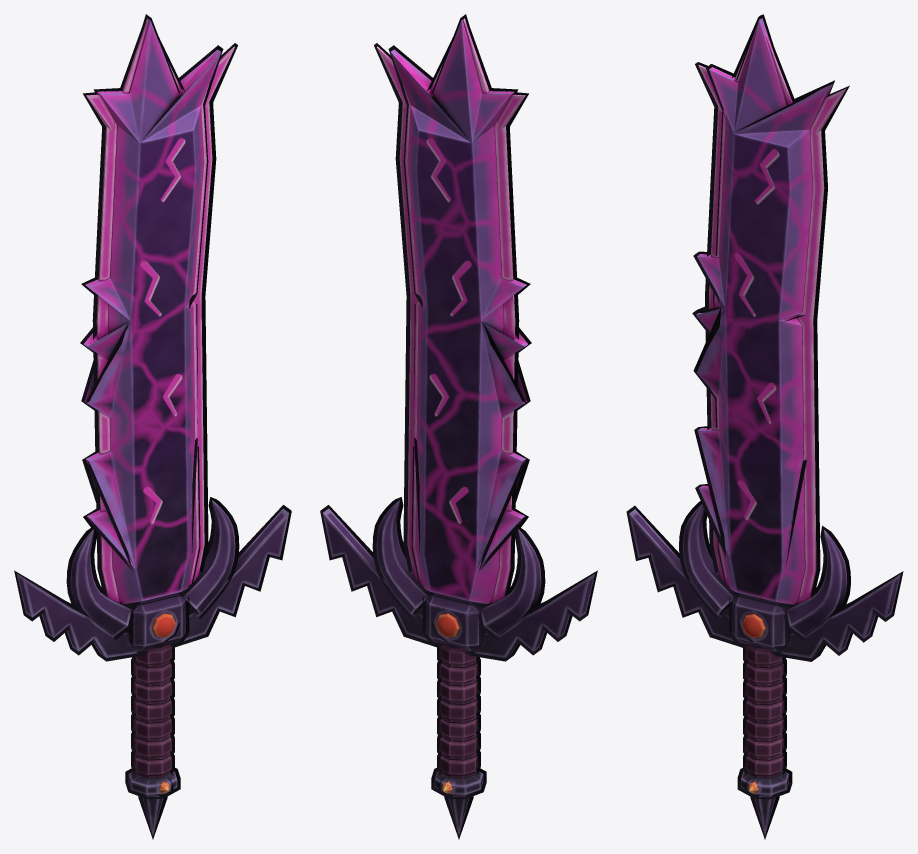
File: DemonSword.fbx
3 views of the same model, side by side, from view 1: azimuth 30°, elevation 25°; view 2: azimuth 150°, elevation 25°; view 3: azimuth 330°, elevation 25° (orthographic).
Visible parts, largest first — view 1: DemonSword, DemonSwordOutline, DemonSwordDemonGlow, DemonSwordDemonEye; view 2: DemonSword, DemonSwordOutline, DemonSwordDemonGlow, DemonSwordDemonEye; view 3: DemonSword, DemonSwordOutline, DemonSwordDemonGlow, DemonSwordDemonEye.
Boxes of the visible parts, left/top/right/bottom form: DemonSword: left=16, top=18, right=289, bottom=835; DemonSwordOutline: left=14, top=14, right=291, bottom=839; DemonSwordDemonGlow: left=86, top=19, right=234, bottom=603; DemonSwordDemonEye: left=152, top=613, right=175, bottom=793; DemonSword: left=322, top=18, right=595, bottom=835; DemonSwordOutline: left=320, top=14, right=597, bottom=839; DemonSwordDemonGlow: left=377, top=19, right=525, bottom=603; DemonSwordDemonEye: left=436, top=613, right=459, bottom=793; DemonSword: left=629, top=18, right=900, bottom=835; DemonSwordOutline: left=626, top=14, right=903, bottom=839; DemonSwordDemonGlow: left=698, top=18, right=846, bottom=603; DemonSwordDemonEye: left=742, top=614, right=765, bottom=793.
Size of the model in its own units: 174 by 509 by 38.4.
Materials: 2 (1 with a texture image).
